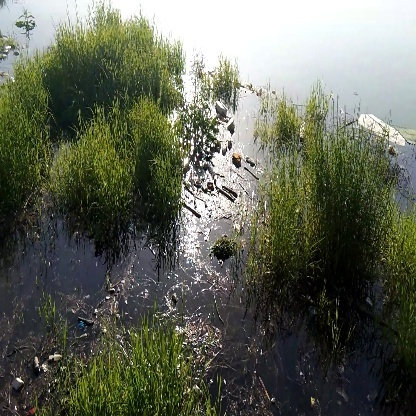plastic-bag: (357, 108, 408, 152)
